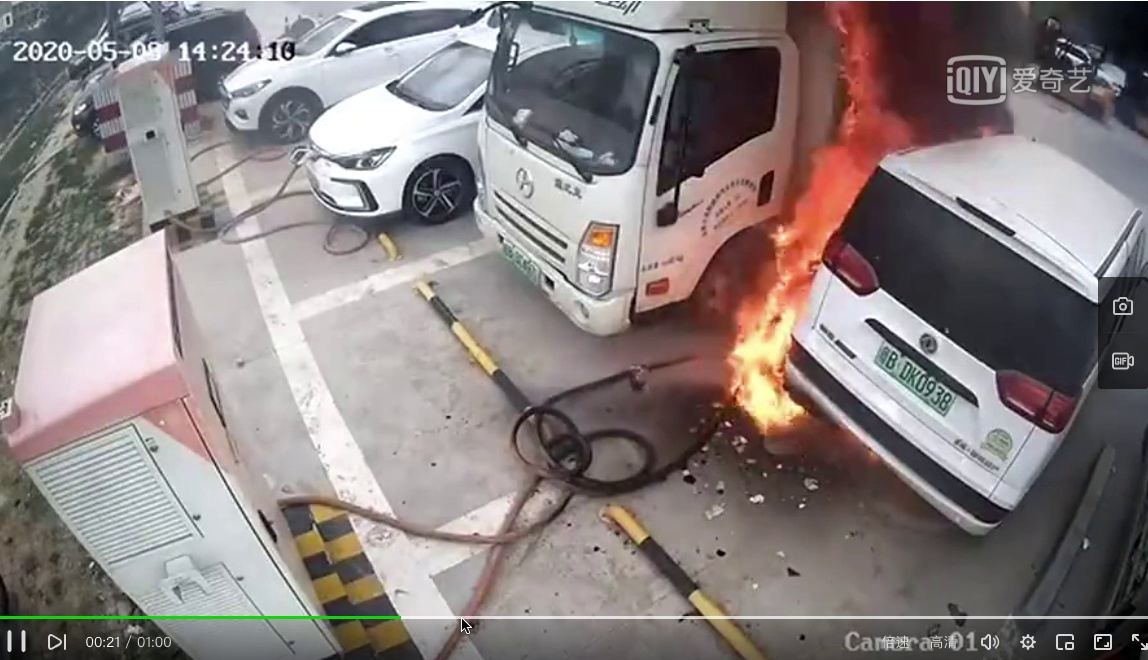fire: (795, 24, 917, 216), (721, 228, 816, 433)
